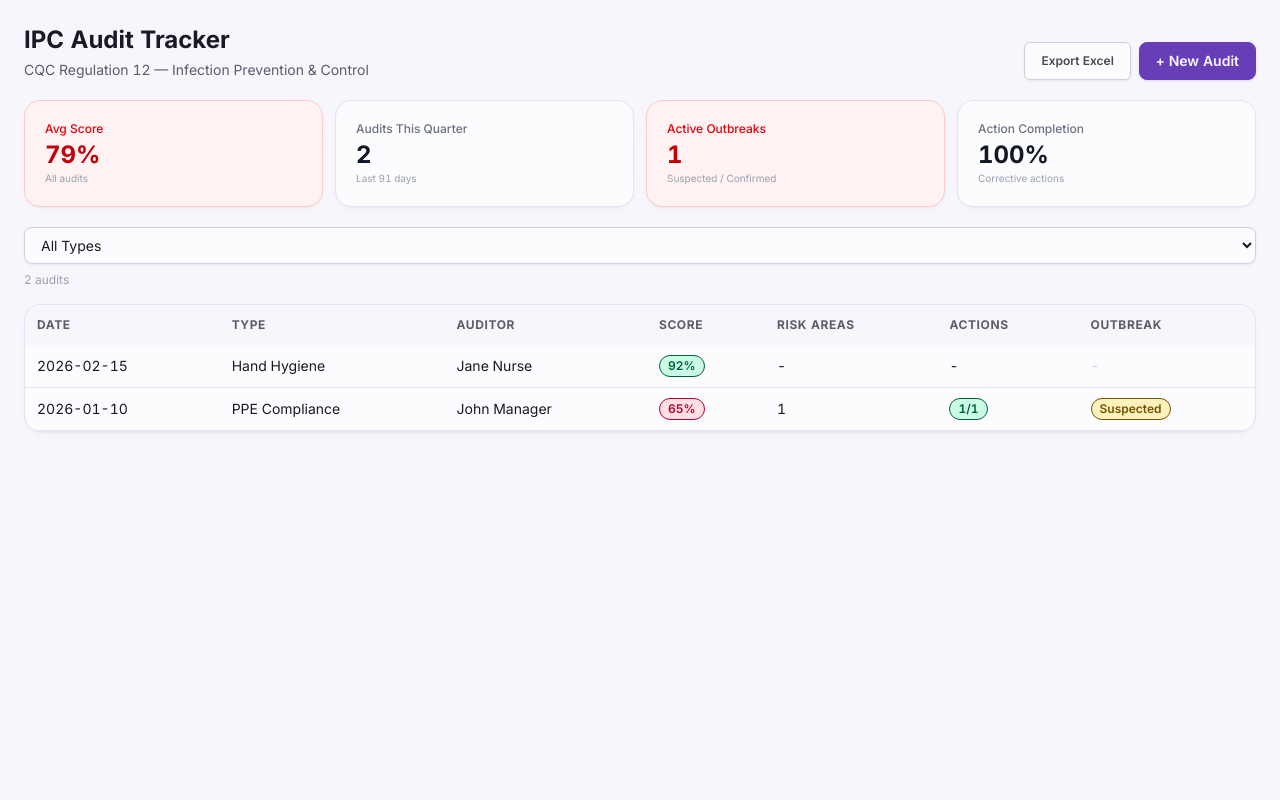
Test: IpcAuditTracker › clicking + New Audit opens a modal
The width and height of the screenshot is (1280, 800).
Click the button "+ New Audit" at (1197, 61), box [1139, 42, 1256, 80]
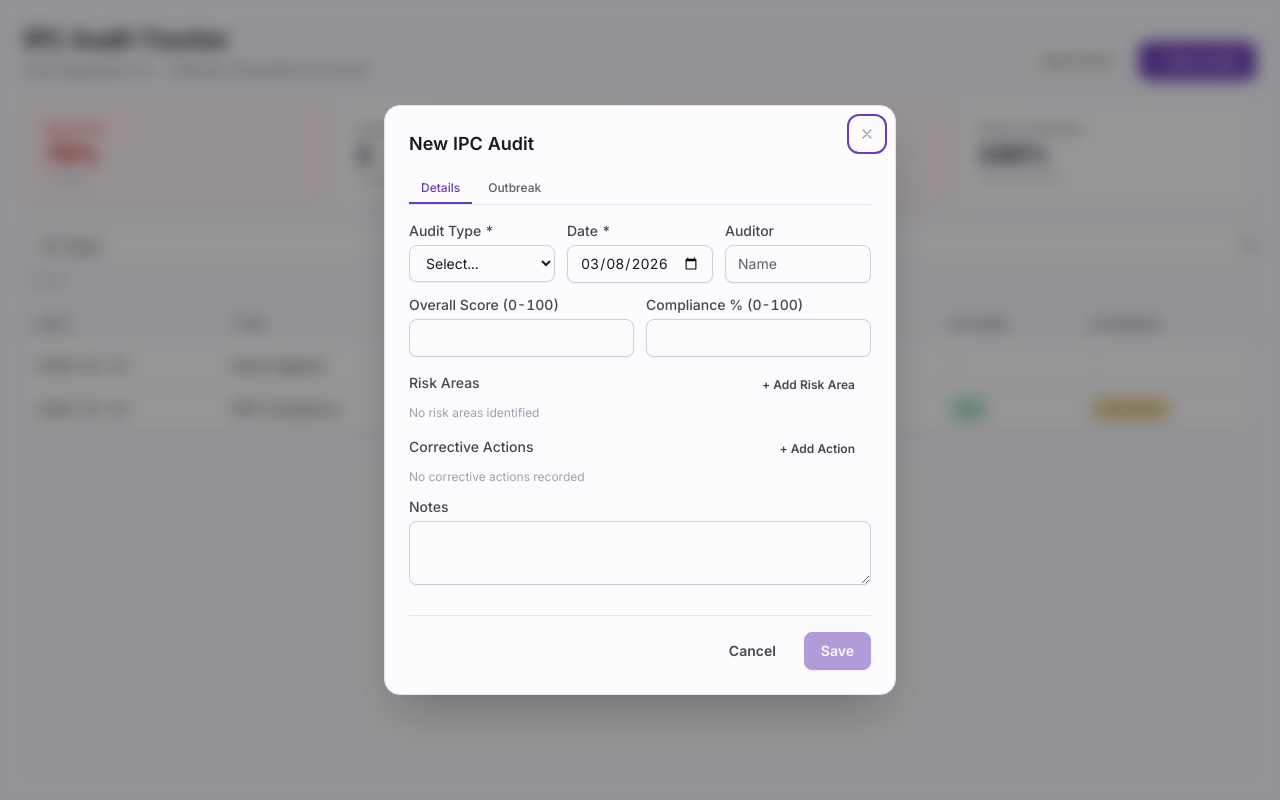
Check: the dialog is shown
Check: the heading "New IPC Audit" is shown, box [409, 133, 534, 154]
